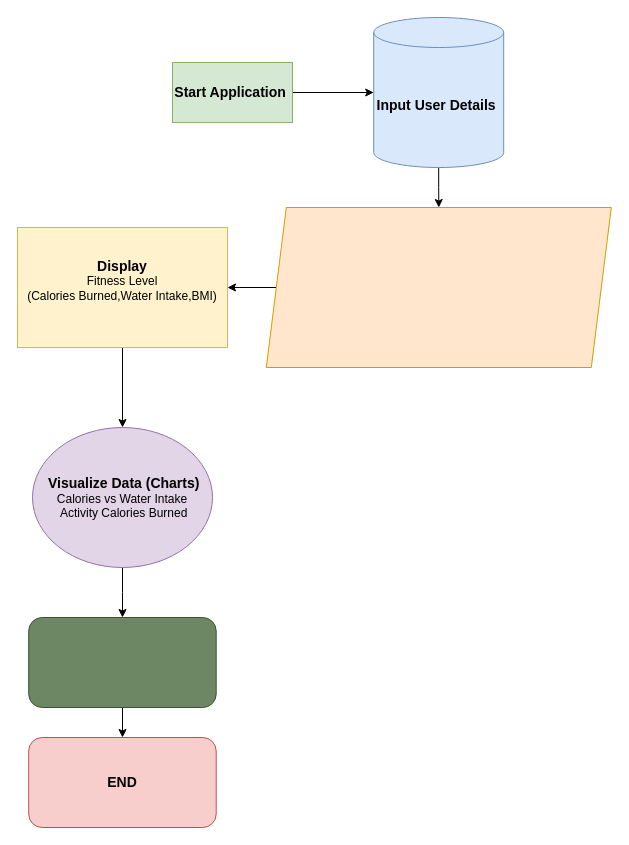
The diagram is 629 pixels wide and 845 high, and some of its shapes have lost their labels. Each missing label, with the centre of its shape:
BMI Calculation & Fitness Level Assessment: point 438,287
Display Fitness Tips (Based on Fitness Level): point 122,662
